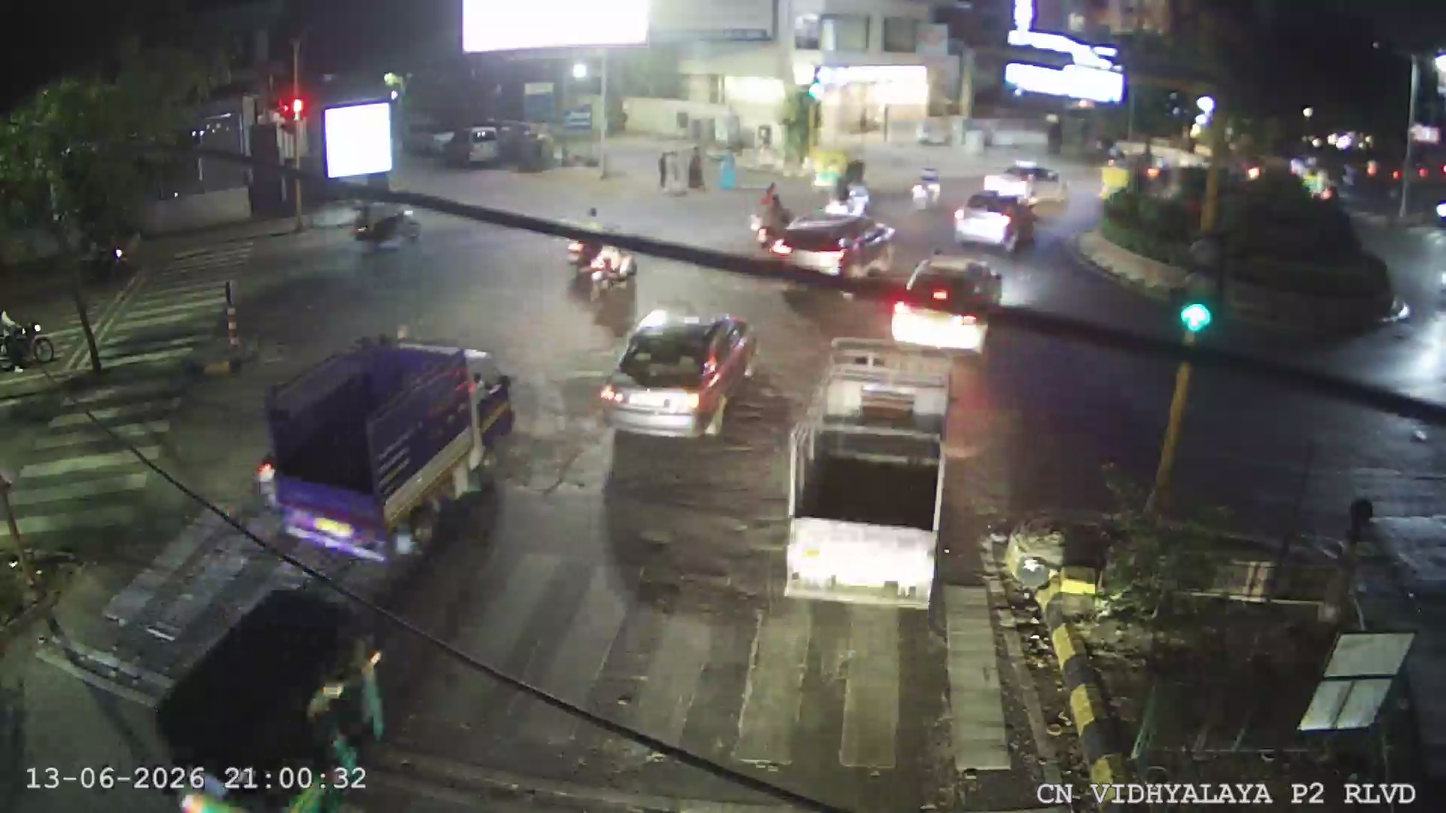bus: (243, 324, 524, 558)
car: (245, 323, 523, 555), (598, 303, 763, 440), (888, 251, 1008, 348), (953, 159, 1068, 252), (767, 207, 898, 285), (952, 183, 1043, 252)
two_wheeler: (568, 233, 641, 302), (746, 178, 796, 256)
